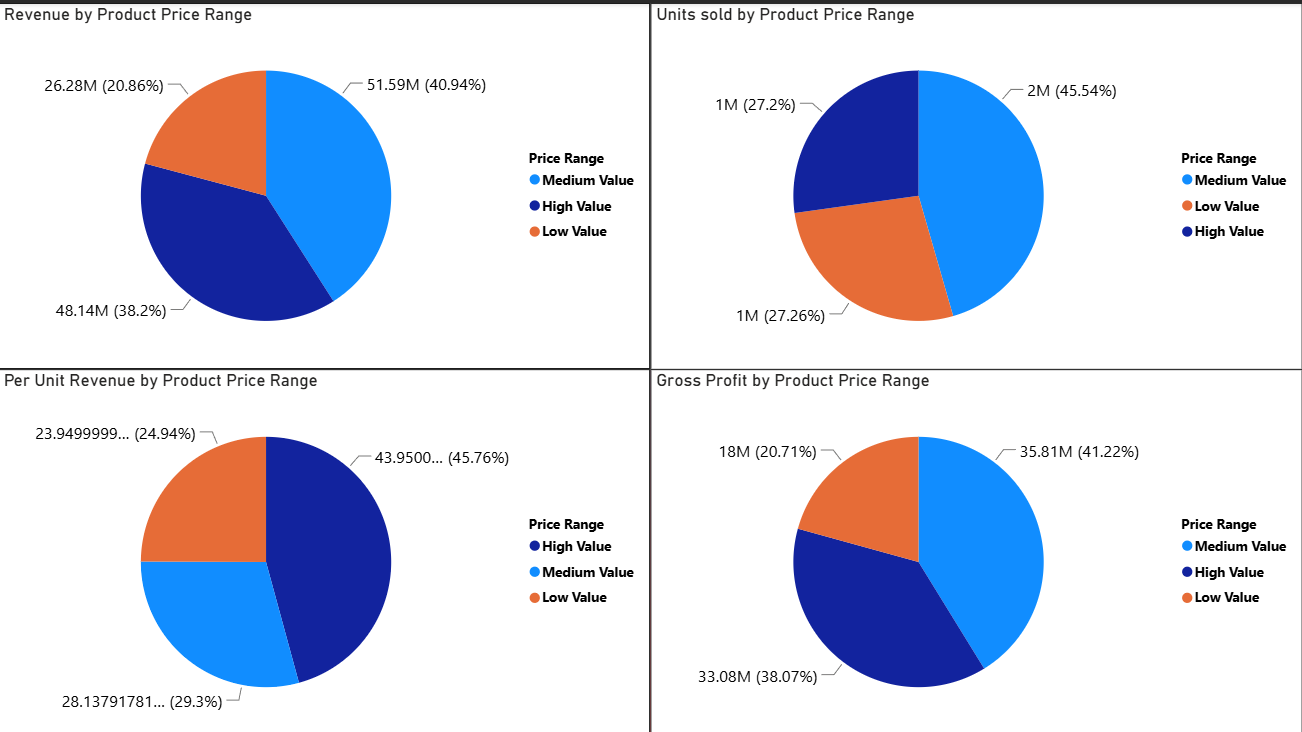

Layout of this report page (visuals, bound fields, positions):
{"tool":"powerbi","page":{"name":"Product Price Range - wise KPIs","canvas":[1280,720],"ordinal":7},"visuals":[{"type":"pieChart","title":"Revenue by Product Price Range","fields":{"Y":["Sum(FactSales.Total Revenue)"],"Category":["DimProducts.Price Range"]},"box":[0,0,640,360],"z":0},{"type":"pieChart","title":"Units sold by Product Price Range","fields":{"Y":["Sum(FactSales.Units)"],"Category":["DimProducts.Price Range"]},"box":[640,0,640,360],"z":1000},{"type":"pieChart","title":"Per Unit Revenue by Product Price Range","fields":{"Y":["FactSales.Revenue per Unit"],"Category":["DimProducts.Price Range"]},"box":[0,360,640,360],"z":2000},{"type":"pieChart","title":"Gross Profit by Product Price Range","fields":{"Y":["FactSales.Total Gross Profit"],"Category":["DimProducts.Price Range"]},"box":[640,360,640,360],"z":3000}]}

Visuals, with their boxes in screenshot pixels (x1, y1, x2, y2), scaled from the page's 1280x720 canvas onto the 1302x732 screenshot:
"Revenue by Product Price Range" pieChart: left=0, top=0, right=651, bottom=366
"Units sold by Product Price Range" pieChart: left=651, top=0, right=1301, bottom=366
"Per Unit Revenue by Product Price Range" pieChart: left=0, top=366, right=651, bottom=731
"Gross Profit by Product Price Range" pieChart: left=651, top=366, right=1301, bottom=731
